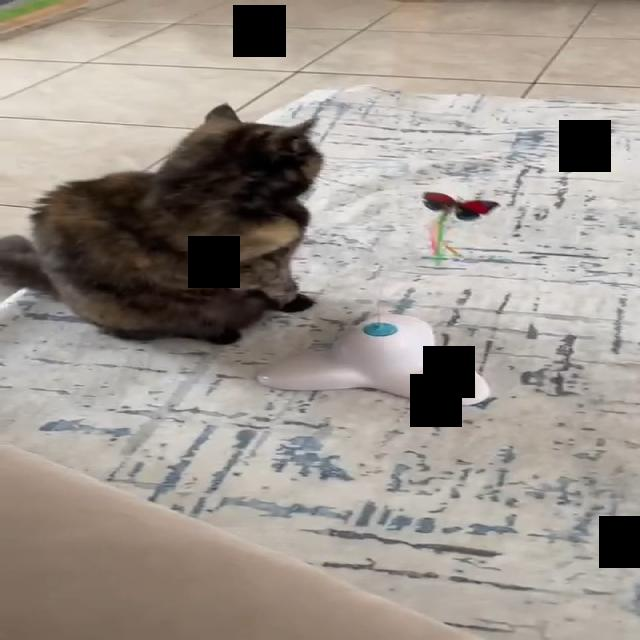authorized: (0, 102, 324, 345)
